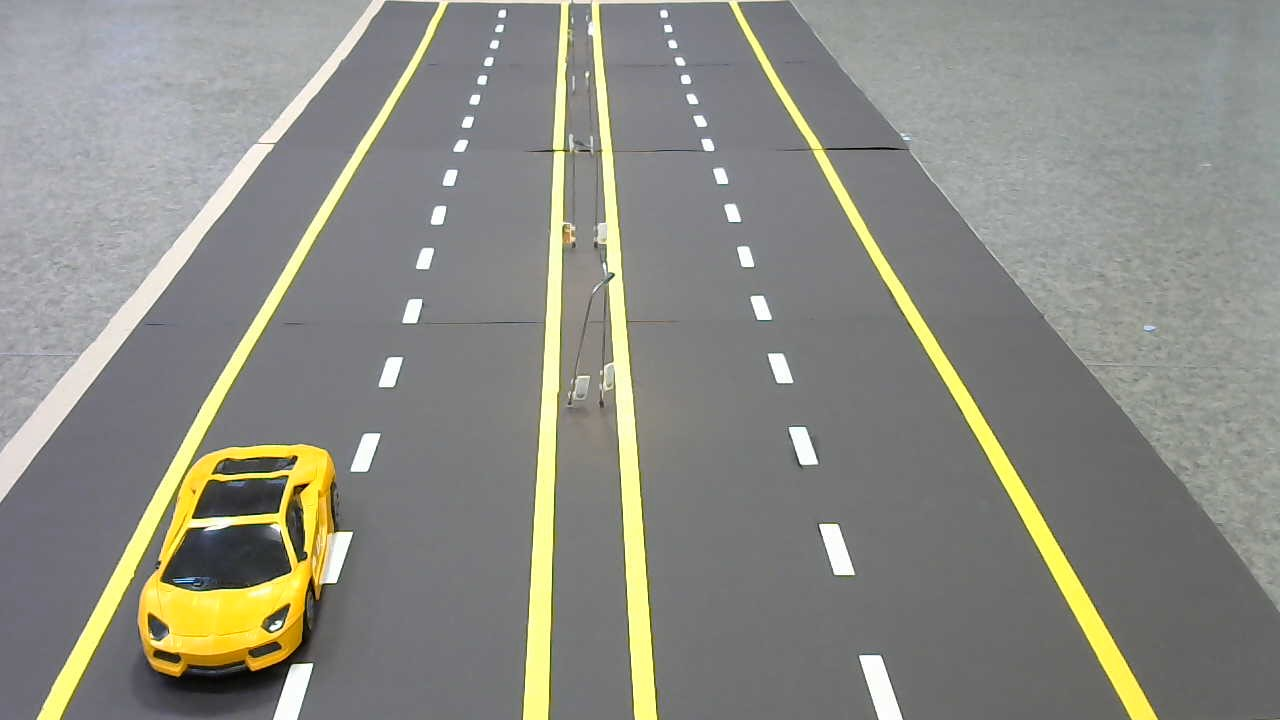front_car: (134, 438, 346, 696)
